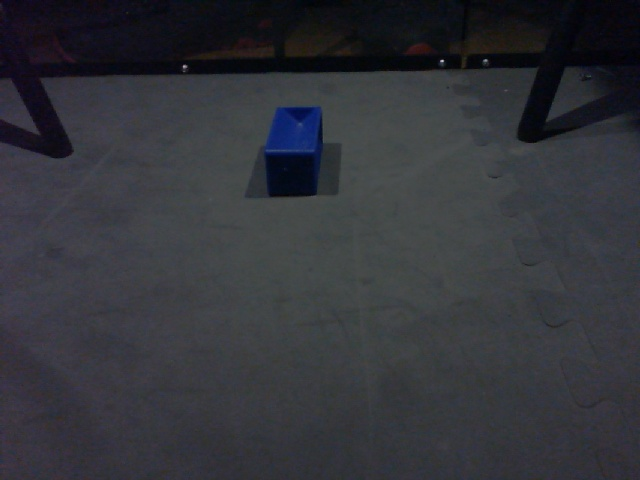BlueSample: (261, 103, 325, 201)
